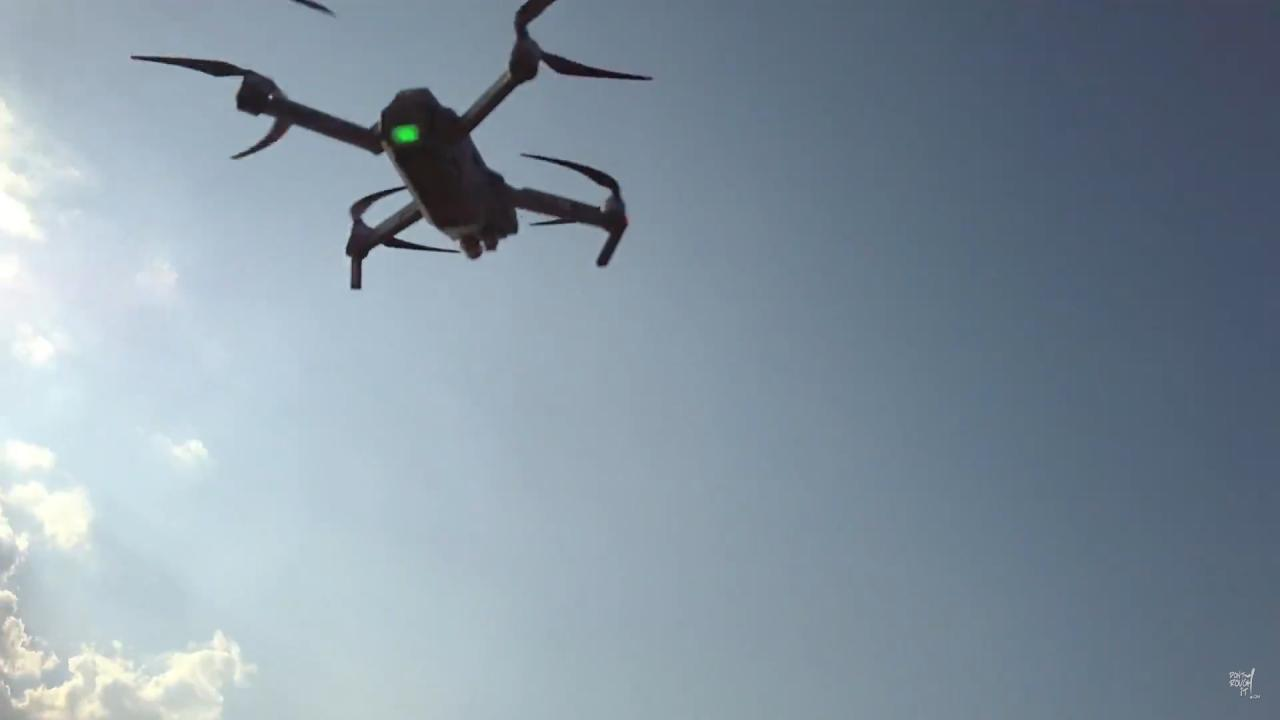Drone: (108, 0, 680, 305)
